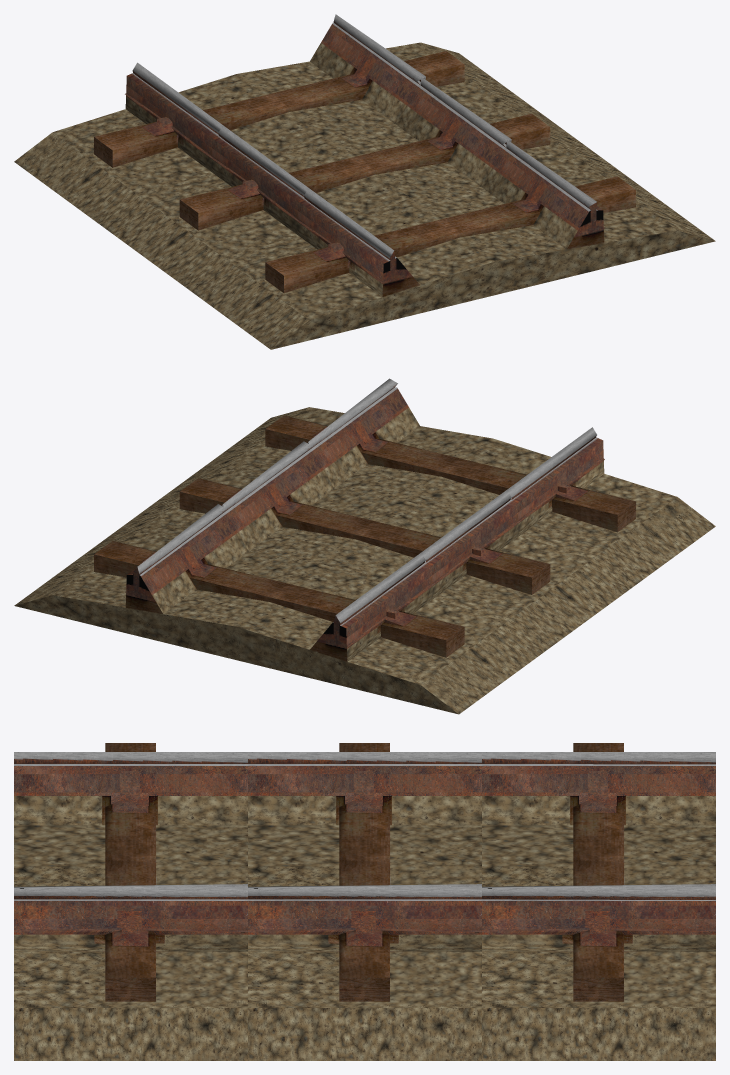
The model's file is rail_1x1_LODs.fbx.
3 renders of one model, top to bottom at view 1: azimuth 30°, elevation 25°; view 2: azimuth 150°, elevation 25°; view 3: azimuth 270°, elevation 25°, orthographic. The views are drawn at different scales.
Visible parts, largest first — view 1: Rail_1x1_LOD1, Rail_1x1_LOD2; view 2: Rail_1x1_LOD1, Rail_1x1_LOD2; view 3: Rail_1x1_LOD1, Rail_1x1_LOD2.
Boxes of the visible parts, x1,y1,x2,y2 form: Rail_1x1_LOD1: (14, 14, 715, 349); Rail_1x1_LOD2: (14, 22, 703, 347); Rail_1x1_LOD1: (14, 378, 715, 714); Rail_1x1_LOD2: (16, 387, 692, 713); Rail_1x1_LOD1: (14, 743, 715, 1060); Rail_1x1_LOD2: (14, 764, 715, 1060).
Size of the model in its own units: 1 by 0.1486 by 1.
2 materials, 2 textured.
